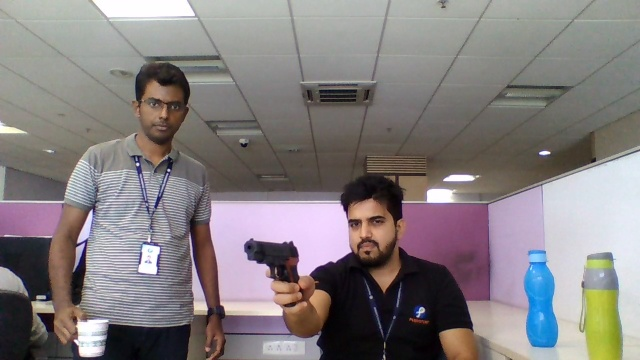gun: (244, 239, 302, 282)
